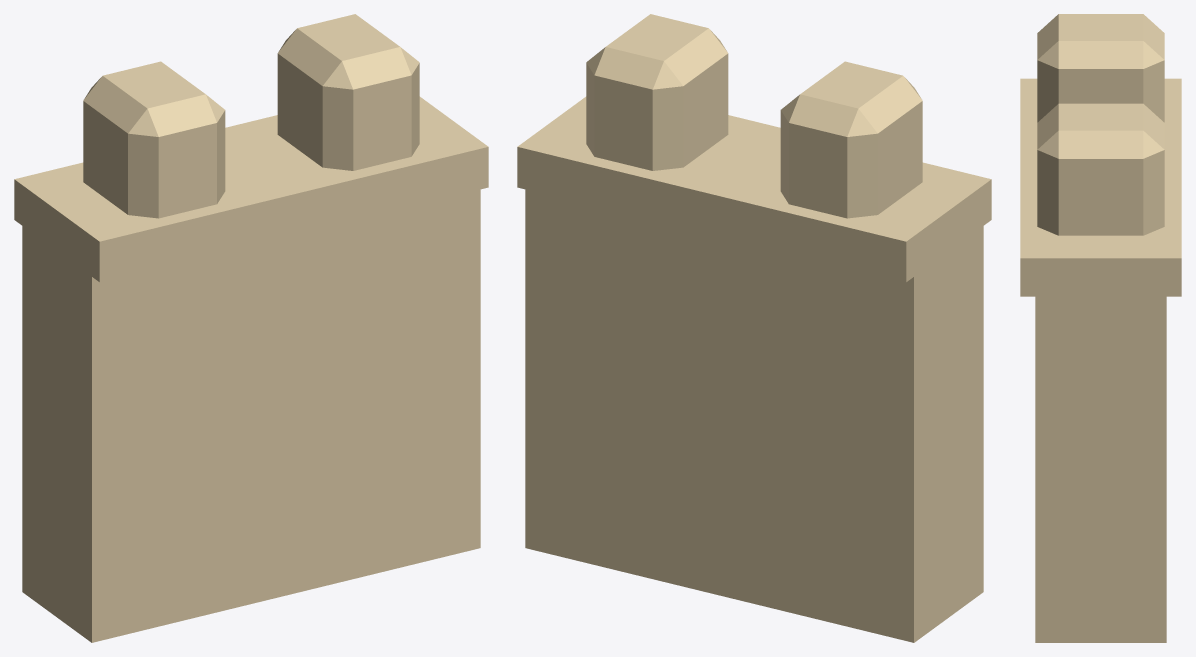
The model's file is wall_line_upper.glb.
The picture shows the model from 3 angles, left to right: view 1: azimuth 30°, elevation 25°; view 2: azimuth 150°, elevation 25°; view 3: azimuth 270°, elevation 25°; orthographic projection. The views are drawn at different scales.
Visible parts, largest first — view 1: wall; view 2: wall; view 3: wall.
Part boxes in pixels (<box>): wall: <box>14,14,488,642</box>; wall: <box>517,14,991,642</box>; wall: <box>1020,14,1181,642</box>.
Size of the model in its own units: 1 by 1.25 by 0.38.
